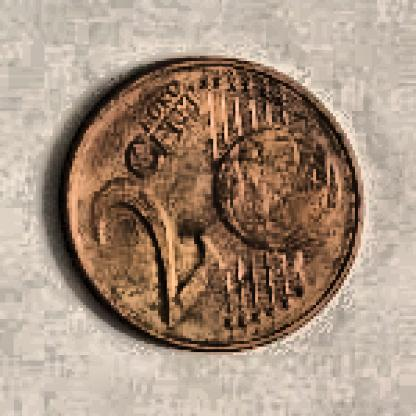coin: (58, 57, 360, 353)
